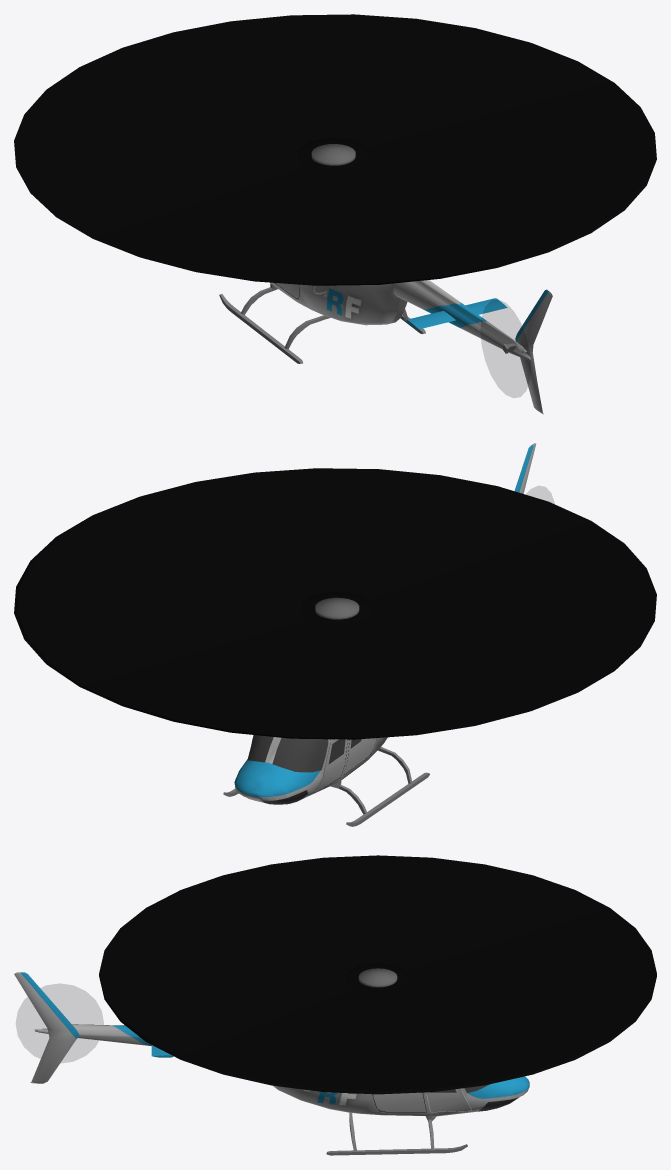
Rendered from bell_ccw.gltf.
The picture shows the model from 3 angles, top to bottom: view 1: azimuth 30°, elevation 25°; view 2: azimuth 150°, elevation 25°; view 3: azimuth 270°, elevation 25°; orthographic projection. The views are drawn at different scales.
Visible parts, largest first — view 1: Cone, Layer:0_Material #25_0.006, Cylinder.003, Cylinder.001, Layer:0__0, Cylinder.002; view 2: Cone, Layer:0_Material #25_0.006, Layer:0_01 - Default_0, Cylinder.001, Layer:0__0, Cylinder.002; view 3: Cone, Layer:0_Material #25_0.006, Cylinder.003, Cylinder.001, Layer:0__0, Cylinder.002.
Boxes of the visible parts, box(x1,y1,x2,y2) form: Cone: box(14, 14, 656, 285); Layer:0_Material #25_0.006: box(270, 280, 552, 414); Cylinder.003: box(481, 300, 530, 397); Cylinder.001: box(298, 138, 368, 170); Layer:0__0: box(219, 283, 516, 363); Cylinder.002: box(311, 144, 355, 165); Cone: box(14, 468, 656, 739); Layer:0_Material #25_0.006: box(234, 443, 535, 803); Layer:0_01 - Default_0: box(247, 735, 363, 804); Cylinder.001: box(302, 592, 372, 624); Layer:0__0: box(223, 747, 429, 826); Cylinder.002: box(315, 597, 359, 619); Cone: box(99, 855, 656, 1094); Layer:0_Material #25_0.006: box(14, 972, 529, 1116); Cylinder.003: box(16, 984, 103, 1062); Cylinder.001: box(347, 963, 408, 991); Layer:0__0: box(326, 1092, 467, 1155); Cylinder.002: box(358, 968, 397, 987).
Bounding box in the file's own units: 156 × 49.41 × 179.
8 materials, 1 textured.
